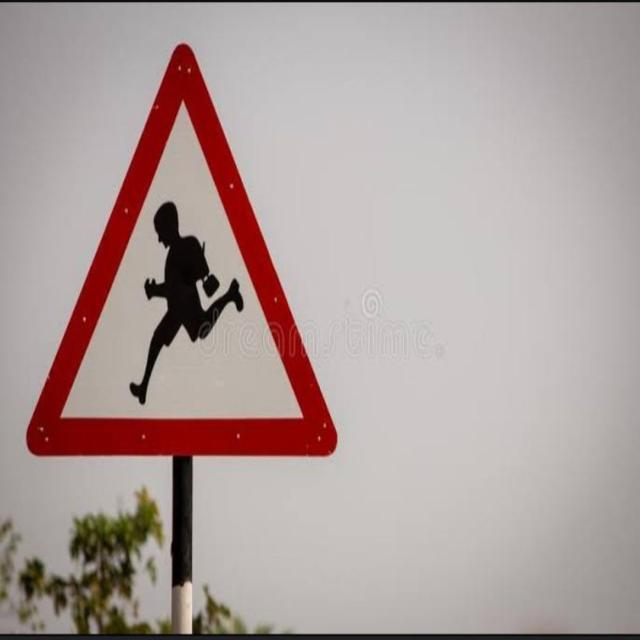school ahead: (29, 45, 344, 459)
